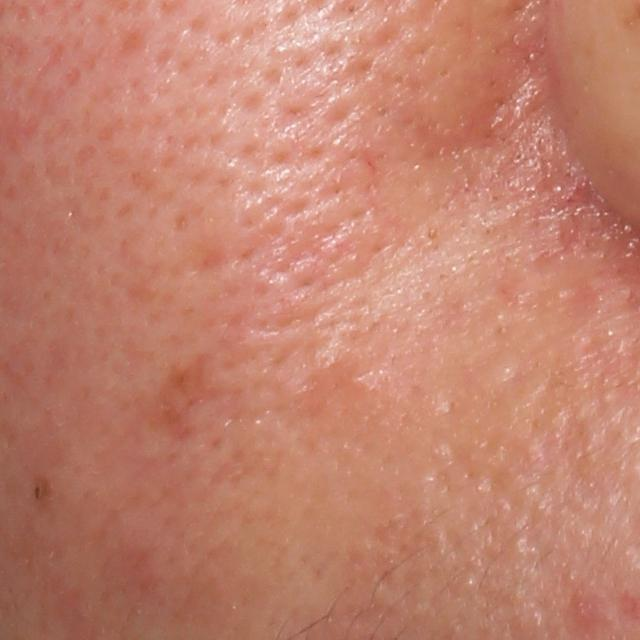atrophic_scar: (147, 346, 245, 446)
